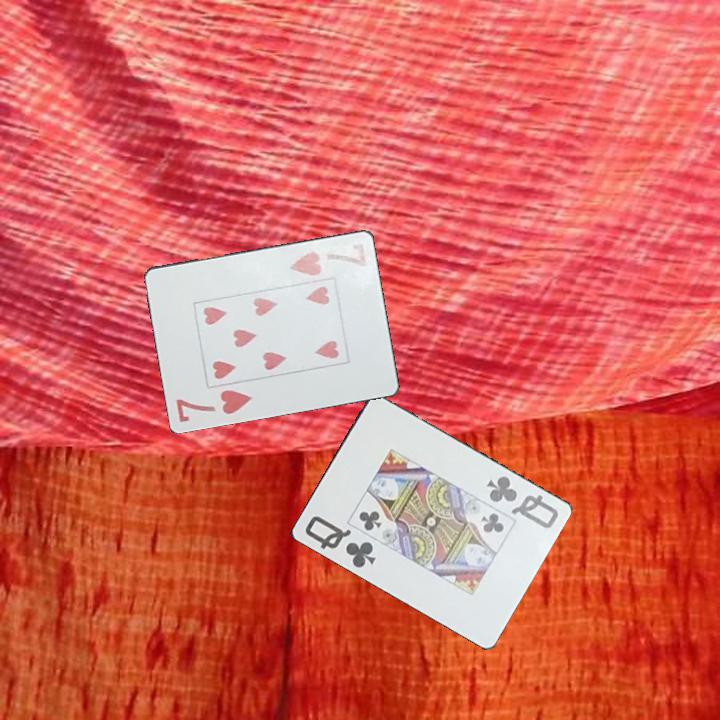7h: (286, 238, 370, 278), (172, 386, 255, 425)
Qc: (482, 472, 562, 532), (301, 512, 379, 571)
